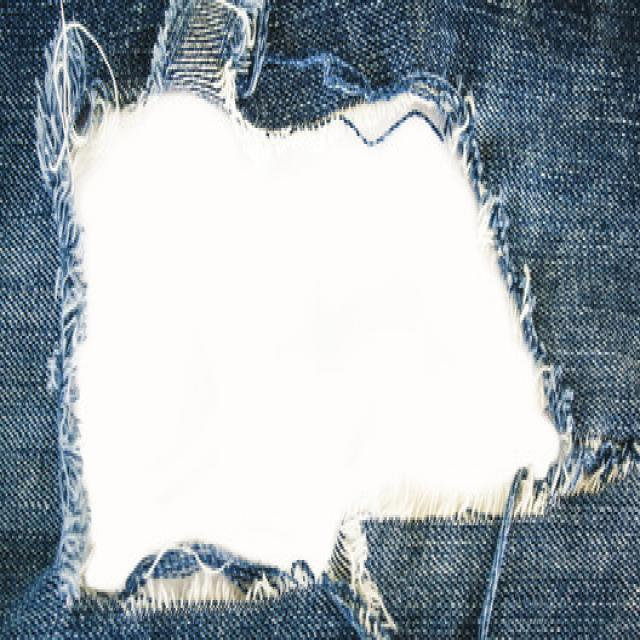Hole: (36, 0, 574, 640)
